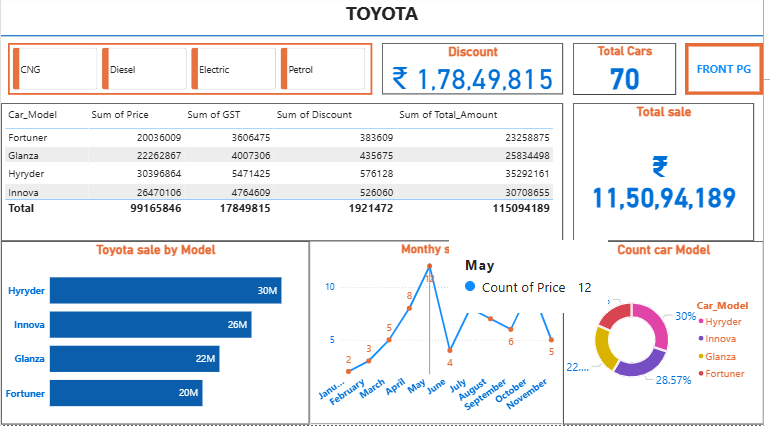

The page's visual inventory and layout, read from the dashboard file:
{"tool":"powerbi","page":{"name":"Toyota","canvas":[1280,720],"ordinal":2},"visuals":[{"type":"textbox","box":[0,0,1280,65],"z":0},{"type":"barChart","title":"Toyota sale by Model","fields":{"Category":["car_sales_2025_india_updated.Car_Model"],"Y":["Sum(car_sales_2025_india_updated.Price)"]},"box":[0,411.7,518.3,308.3],"z":1000},{"type":"donutChart","title":"Count car Model","fields":{"Category":["car_sales_2025_india_updated.Car_Model"],"Y":["CountNonNull(car_sales_2025_india_updated.Price)"]},"box":[943.3,411.7,336.7,308.3],"z":2000},{"type":"lineChart","title":"Monthy sales","fields":{"Category":["car_sales_2025_india_updated.Delivery_Date.Variation.Date Hierarchy.Month"],"Y":["Count(car_sales_2025_india_updated.Price)"]},"box":[518.3,411.7,425,308.3],"z":3000},{"type":"tableEx","fields":{"Values":["car_sales_2025_india_updated.Car_Model","Sum(car_sales_2025_india_updated.Price)","Sum(car_sales_2025_india_updated.GST)","Sum(car_sales_2025_india_updated.Discount)","Sum(car_sales_2025_india_updated.Total_Amount)"]},"box":[0,179.7,944,231.8],"z":4000},{"type":"shape","box":[0,10,1280,113.3],"z":5000},{"type":"card","title":"Total Cars","fields":{"Values":["CountNonNull(car_sales_2025_india_updated.Car_Model)"]},"box":[960.8,79,173,87.3],"z":6000},{"type":"card","title":"Discount","fields":{"Values":["Sum(car_sales_2025_india_updated.GST)"]},"box":[640,79,304,85.7],"z":7000},{"type":"card","title":"Total sale","fields":{"Values":["Sum(car_sales_2025_india_updated.Total_Amount)"]},"box":[960.8,179.7,304,231.8],"z":9000},{"type":"advancedSlicerVisual","fields":{"Values":["car_sales_2025_india_updated.Fuel_Type"]},"box":[11.7,78.3,611.7,86.7],"z":10000},{"type":"actionButton","box":[1149,79,131,87.3],"z":10001}]}

Visuals, with their boxes in screenshot pixels (x1, y1, x2, y2), scaled from the page's 1280x720 canvas onto the 770x426 screenshot:
textbox: {"left": 0, "top": 0, "right": 769, "bottom": 38}
"Toyota sale by Model" barChart: {"left": 0, "top": 244, "right": 312, "bottom": 425}
"Count car Model" donutChart: {"left": 567, "top": 244, "right": 769, "bottom": 425}
"Monthy sales" lineChart: {"left": 312, "top": 244, "right": 567, "bottom": 425}
tableEx - car_sales_2025_india_updated.Car_Model x Sum(car_sales_2025_india_updated.Price): {"left": 0, "top": 106, "right": 568, "bottom": 243}
shape: {"left": 0, "top": 6, "right": 769, "bottom": 73}
"Total Cars" card: {"left": 578, "top": 47, "right": 682, "bottom": 98}
"Discount" card: {"left": 385, "top": 47, "right": 568, "bottom": 97}
"Total sale" card: {"left": 578, "top": 106, "right": 761, "bottom": 243}
advancedSlicerVisual - car_sales_2025_india_updated.Fuel_Type: {"left": 7, "top": 46, "right": 375, "bottom": 98}
actionButton: {"left": 691, "top": 47, "right": 769, "bottom": 98}
